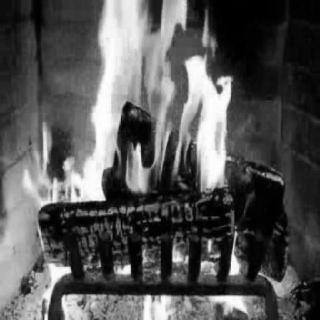Fire: (1, 0, 303, 311)
